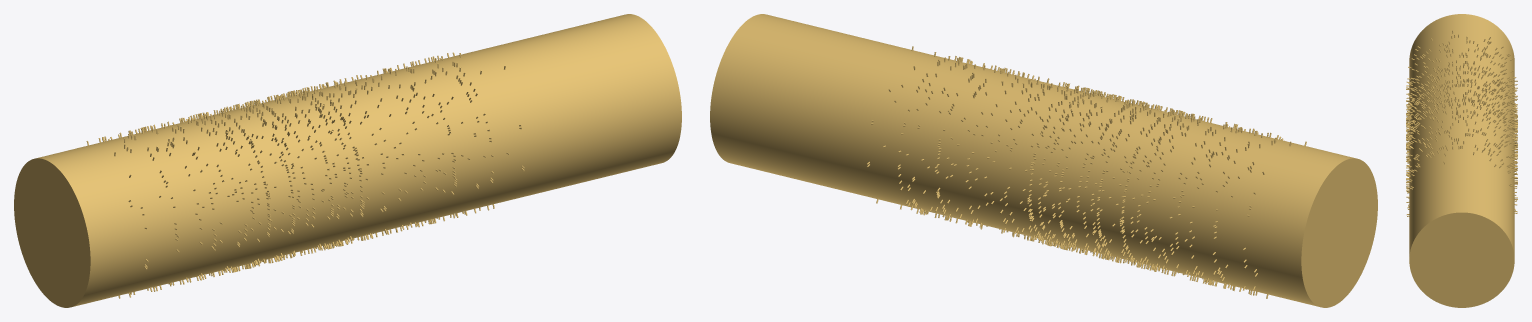
The model's file is Cylinder-4-Schumann-Schubert.glb.
3 views of the same model, side by side, from view 1: azimuth 30°, elevation 25°; view 2: azimuth 150°, elevation 25°; view 3: azimuth 270°, elevation 25° (orthographic). The views are drawn at different scales.
Parts seen in each view (by area): view 1: cylinder_body; view 2: cylinder_body; view 3: cylinder_body.
Boxes of the visible parts, box(x1,y1,x2,y2) form: cylinder_body: box(14, 14, 681, 307); cylinder_body: box(710, 14, 1377, 307); cylinder_body: box(1409, 14, 1514, 307).
Bounding box in the file's own units: 0.214 × 0.051 × 0.051.
